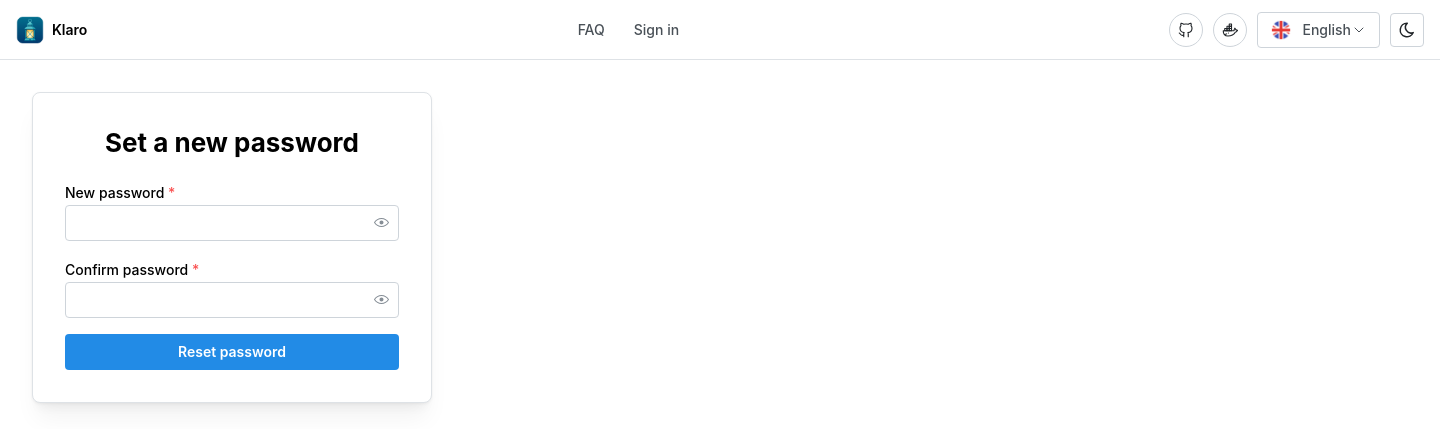
Test: ResetPassword › shows error for invalid token
The width and height of the screenshot is (1440, 429).
In the password field labelled "New password *": (232, 223) 66,206 -> 398,240, type "new-password"
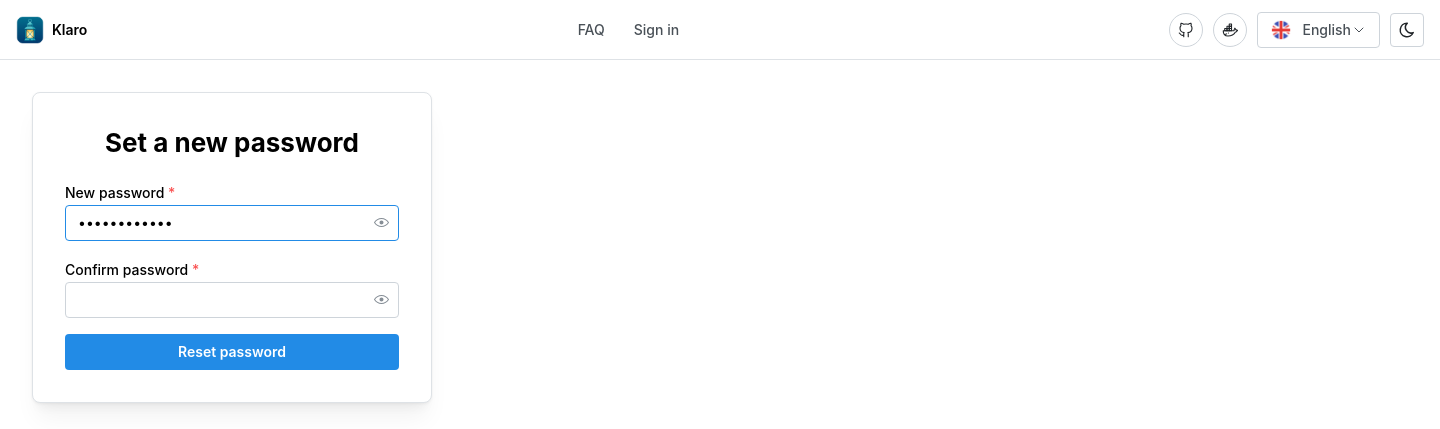
In the password field labelled "Confirm password *": (232, 300) 66,283 -> 398,317, type "new-password"
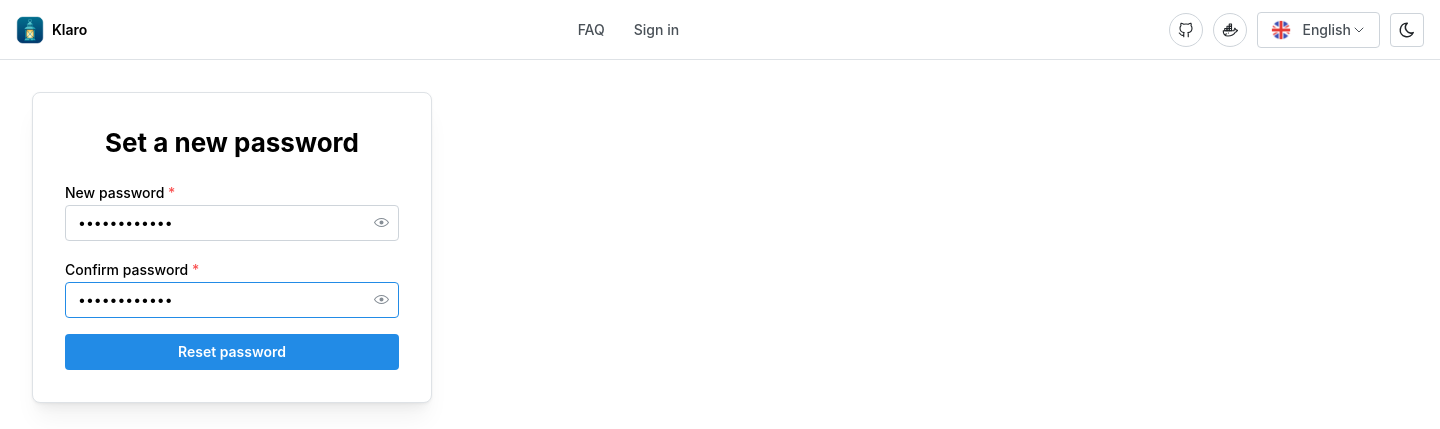
Click the button "Reset password": (232, 352) 65,334 -> 399,370
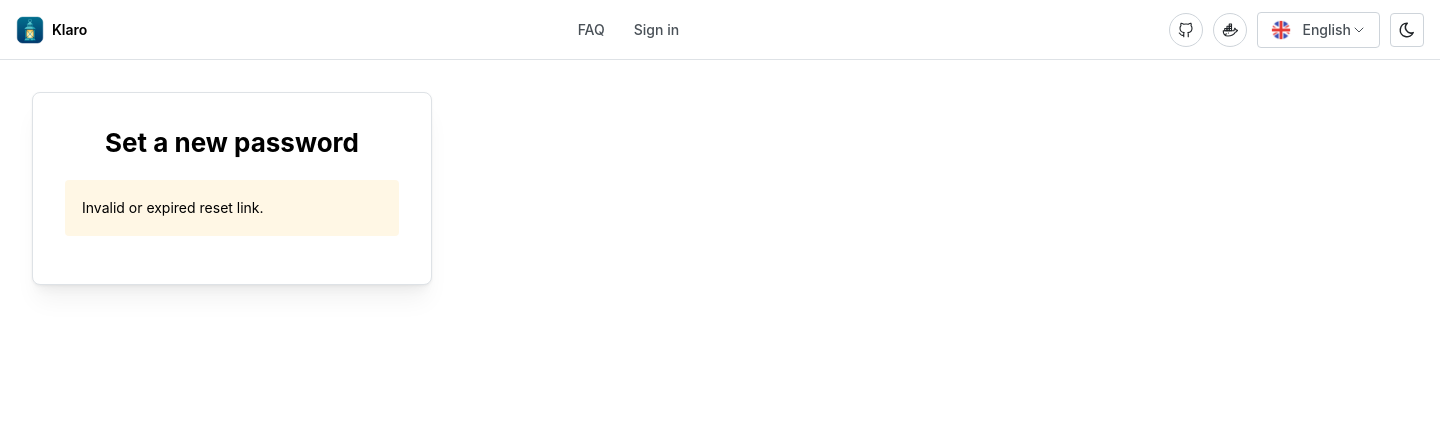
expect the text "Invalid or expired reset link." is shown: met, box 82,199 -> 264,216
